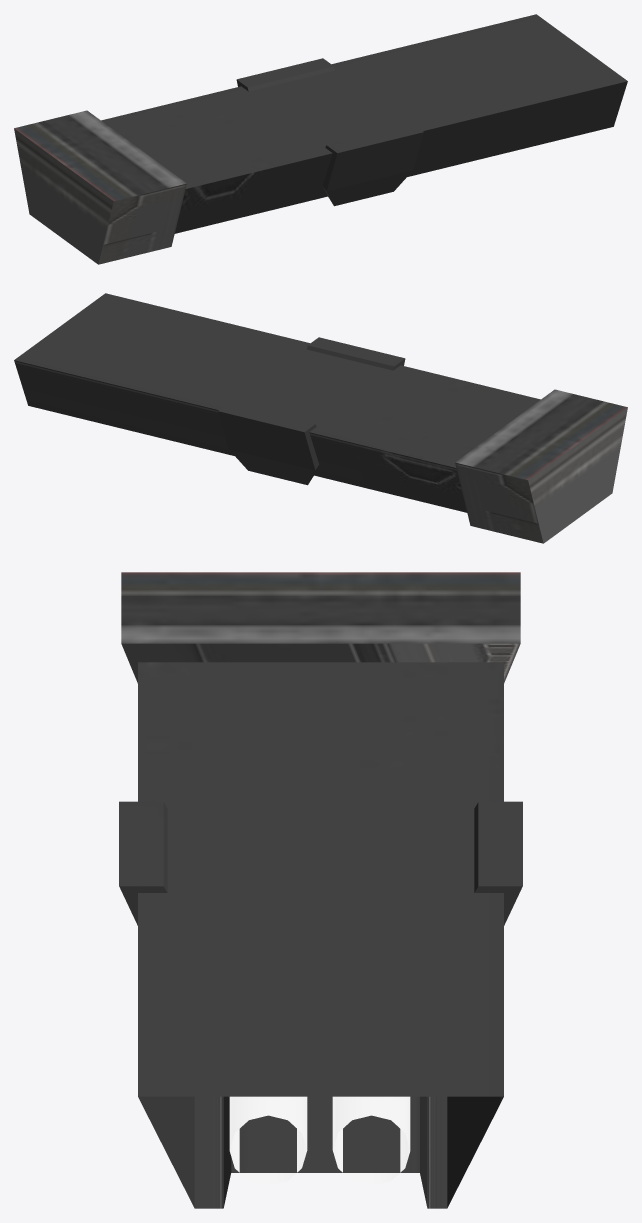
File: light-wide.glb
The picture shows the model from 3 angles, top to bottom: view 1: azimuth 30°, elevation 25°; view 2: azimuth 150°, elevation 25°; view 3: azimuth 270°, elevation 25°; orthographic projection. The views are drawn at different scales.
Visible parts, largest first — view 1: Prop_Light_Wide; view 2: Prop_Light_Wide; view 3: Prop_Light_Wide.
Boxes of the visible parts, <box> form: Prop_Light_Wide: <box>14,14,627,264</box>; Prop_Light_Wide: <box>14,293,627,543</box>; Prop_Light_Wide: <box>119,572,522,1208</box>.
Size of the model in its own units: 1.32 by 0.1819 by 0.4453.
2 materials, 1 textured.
